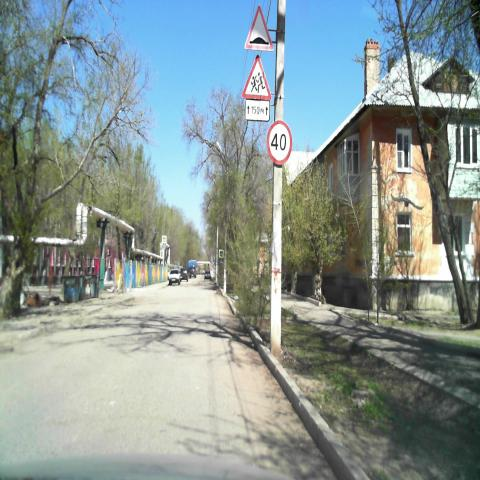1_17: (244, 5, 274, 53)
1_23: (242, 55, 272, 98)
3_24: (266, 120, 292, 166)
